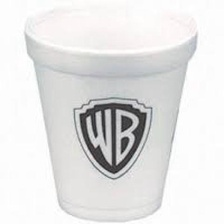paper_cup: (18, 0, 204, 224)
